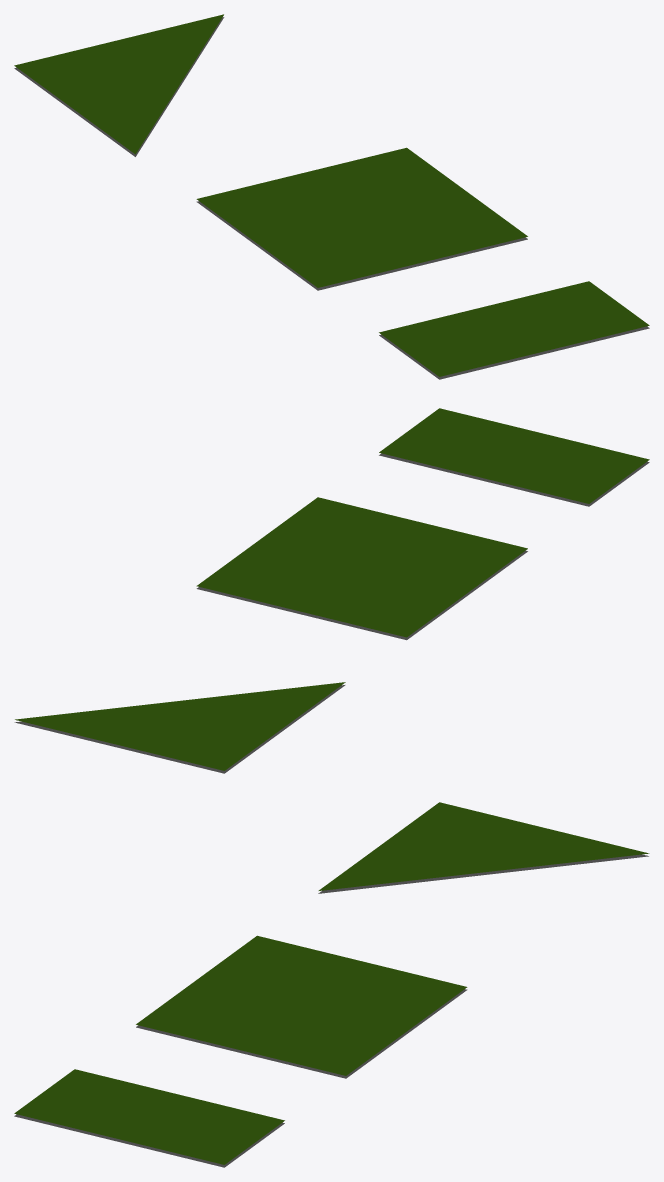
The model's file is Golf Tiles2.fbx.
The picture shows the model from 3 angles, top to bottom: view 1: azimuth 30°, elevation 25°; view 2: azimuth 150°, elevation 25°; view 3: azimuth 330°, elevation 25°; orthographic projection.
Parts seen in each view (by area): view 1: 1x1Square, 1x0.5Square, 1x1Corner; view 2: 1x1Square, 1x1Corner, 1x0.5Square; view 3: 1x1Square, 1x1Corner, 1x0.5Square.
Boxes of the visible parts, <box> form: 1x1Square: <box>196,147,527,290</box>; 1x0.5Square: <box>379,281,649,379</box>; 1x1Corner: <box>14,14,224,156</box>; 1x1Square: <box>196,497,527,640</box>; 1x1Corner: <box>14,682,345,773</box>; 1x0.5Square: <box>379,408,649,506</box>; 1x1Square: <box>136,935,467,1078</box>; 1x1Corner: <box>318,802,649,893</box>; 1x0.5Square: <box>14,1069,284,1167</box>.
Size of the model in its own units: 3.5 by 1 by 0.0125.
